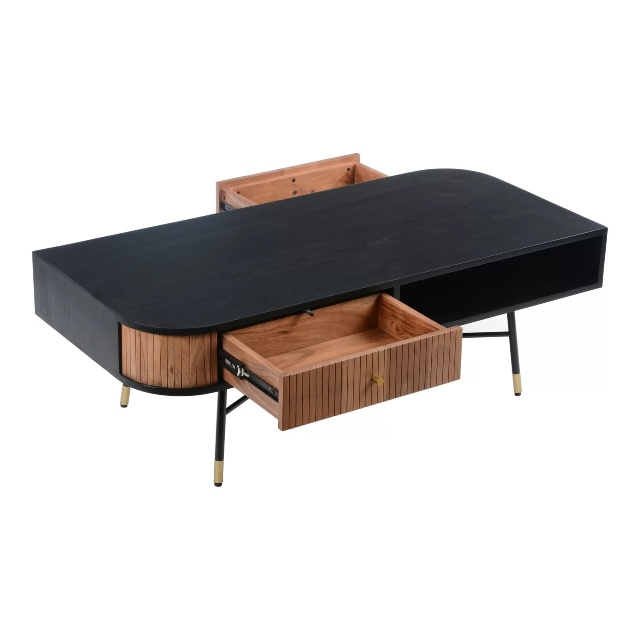obstacle: (33, 155, 606, 485)
